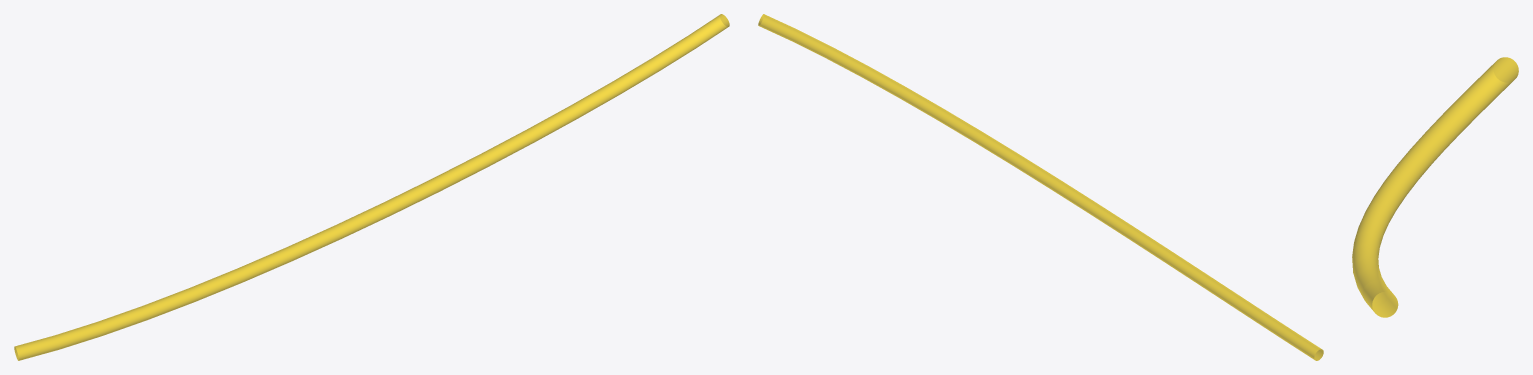
Rendered from Event_100608114_track_114.fbx.
3 renders of one model, left to right at view 1: azimuth 30°, elevation 25°; view 2: azimuth 150°, elevation 25°; view 3: azimuth 270°, elevation 25°, orthographic. The views are drawn at different scales.
Visible parts, largest first — view 1: Model; view 2: Model; view 3: Model.
Part boxes in pixels (left/top/right/bottom): Model: left=14, top=14, right=729, bottom=360; Model: left=758, top=14, right=1323, bottom=360; Model: left=1352, top=57, right=1518, bottom=317.
Size of the model in its own units: 2.07 by 0.6067 by 0.2532.
